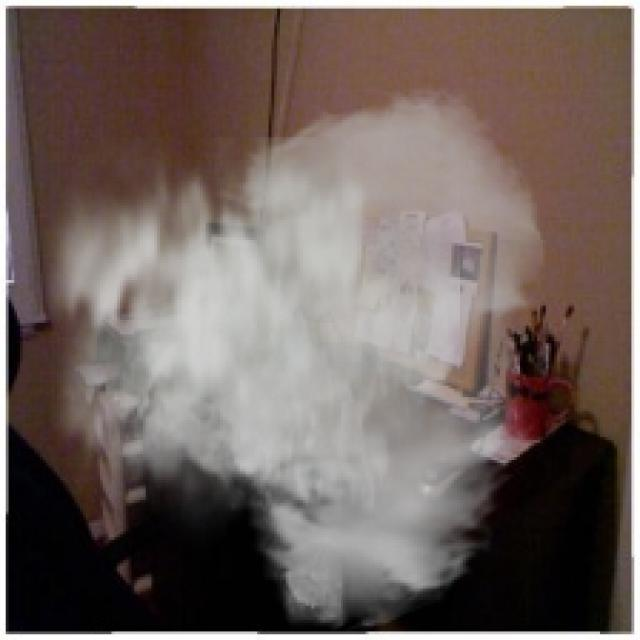smoke: (20, 83, 549, 634)
